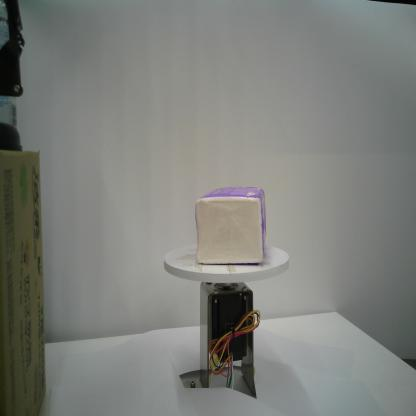Tissue: (194, 184, 268, 265)
